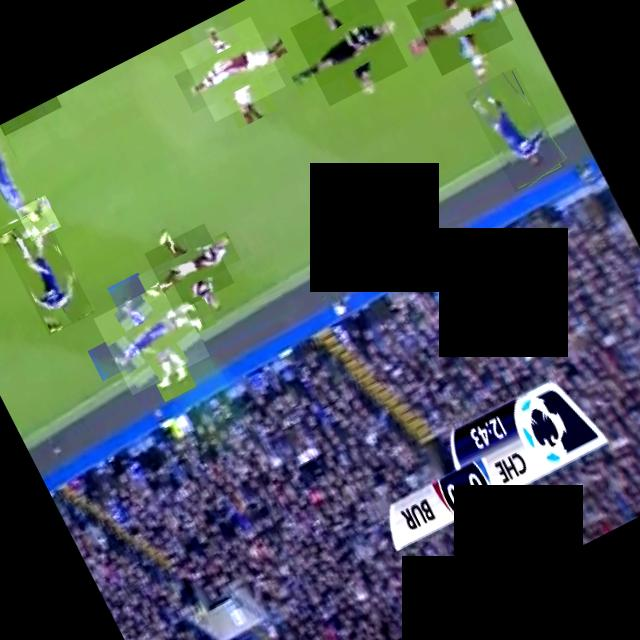ball: (15, 194, 60, 240)
referee: (289, 0, 407, 105)
soccer-player: (92, 278, 209, 394), (463, 66, 565, 192), (0, 212, 93, 335), (179, 16, 285, 121), (144, 222, 234, 312), (405, 0, 512, 75), (0, 124, 41, 230), (0, 95, 60, 135)
